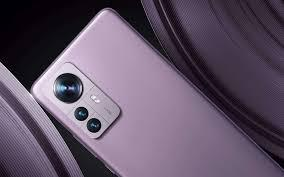Smartphone: (37, 15, 281, 177)
